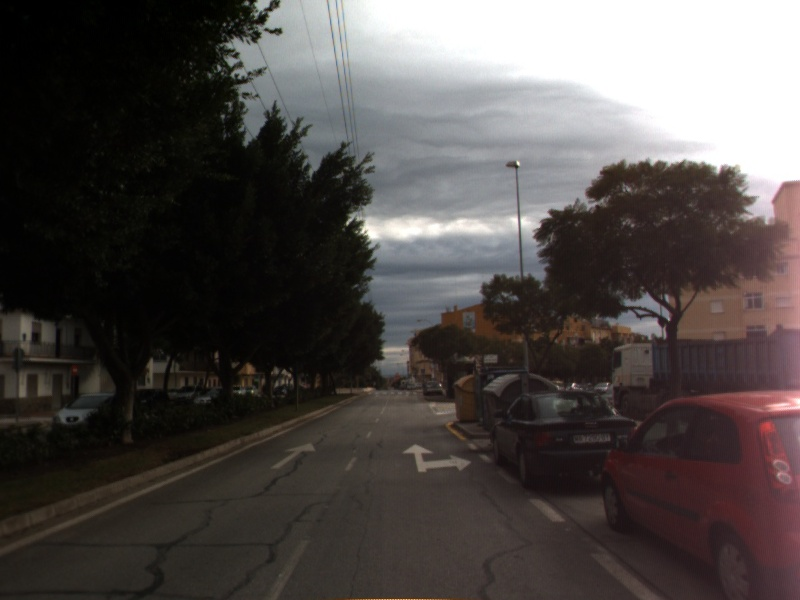STRAIGHT: (268, 440, 318, 471)
STRAIGHT_RIGHT: (400, 441, 474, 474)
